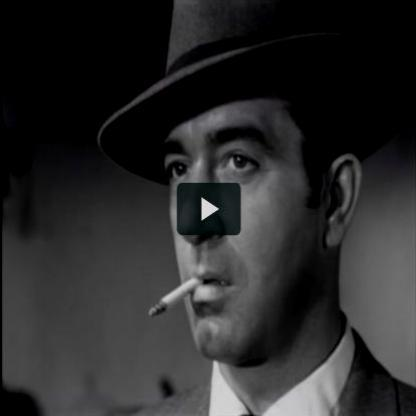cigarette: (148, 274, 202, 318)
person: (145, 1, 368, 415)
